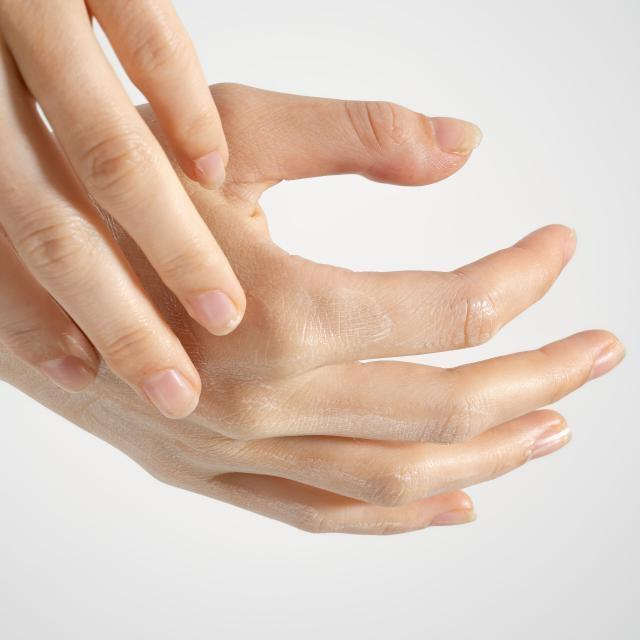no_apron: (193, 46, 640, 580), (0, 0, 252, 431)
